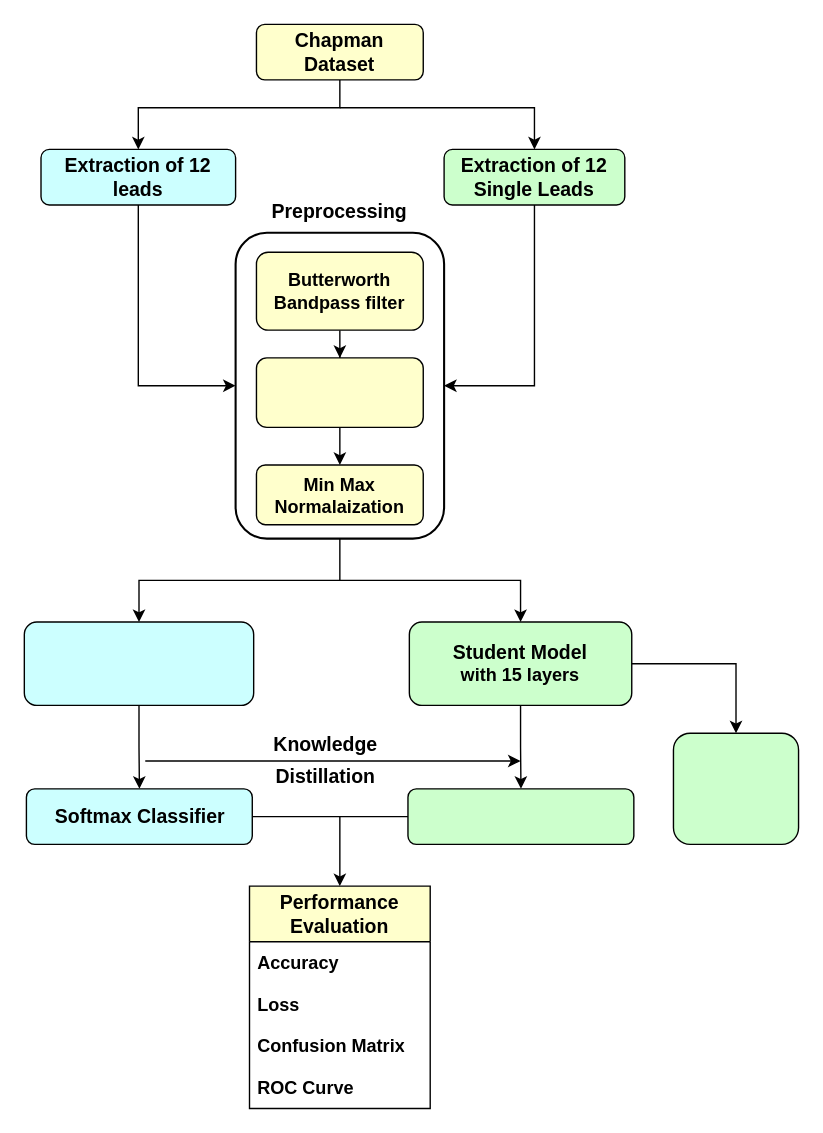
The diagram is 823 pixels wide and 1133 high, and some of its shapes have lost their labels. The centre of each missing label's shape, as x and y in pixels:
Classifier after KD: point 520,815
Classifier before KD: point 735,788
Savitzky Golay Filter: point 339,392
Teacher Model with 22 layers: point 138,663
